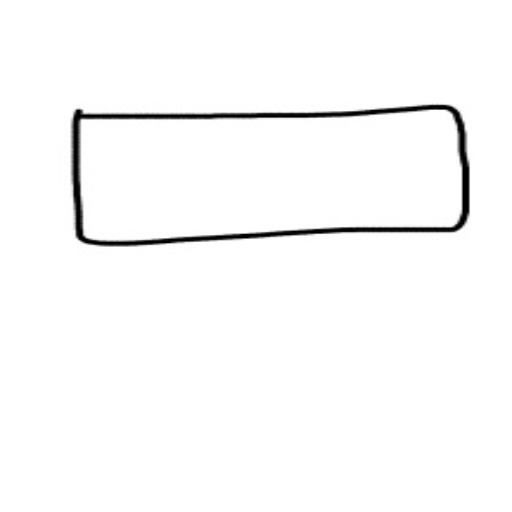rectangle: (67, 101, 484, 251)
